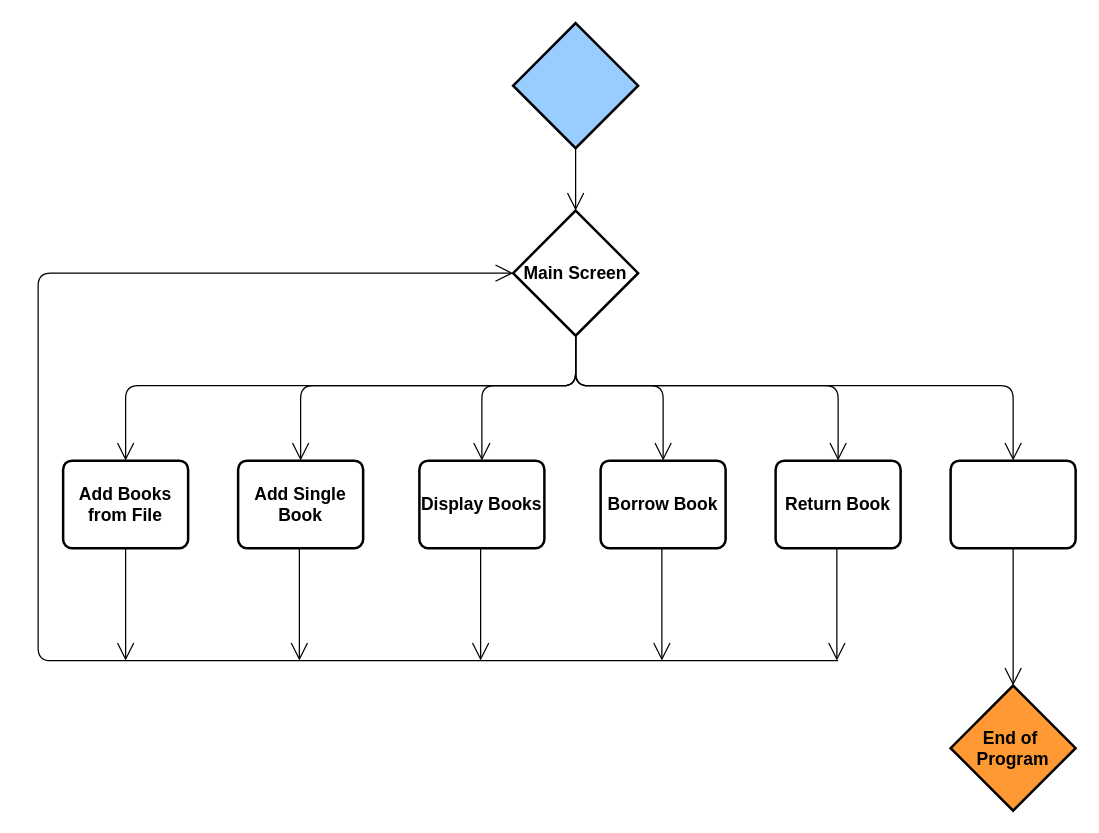
This 1099x833 diagram has some shape labels left out. Each missing label, with the centre of its shape:
"Exit" goes at (x=1012, y=504).
"Start the program" goes at (x=575, y=85).
